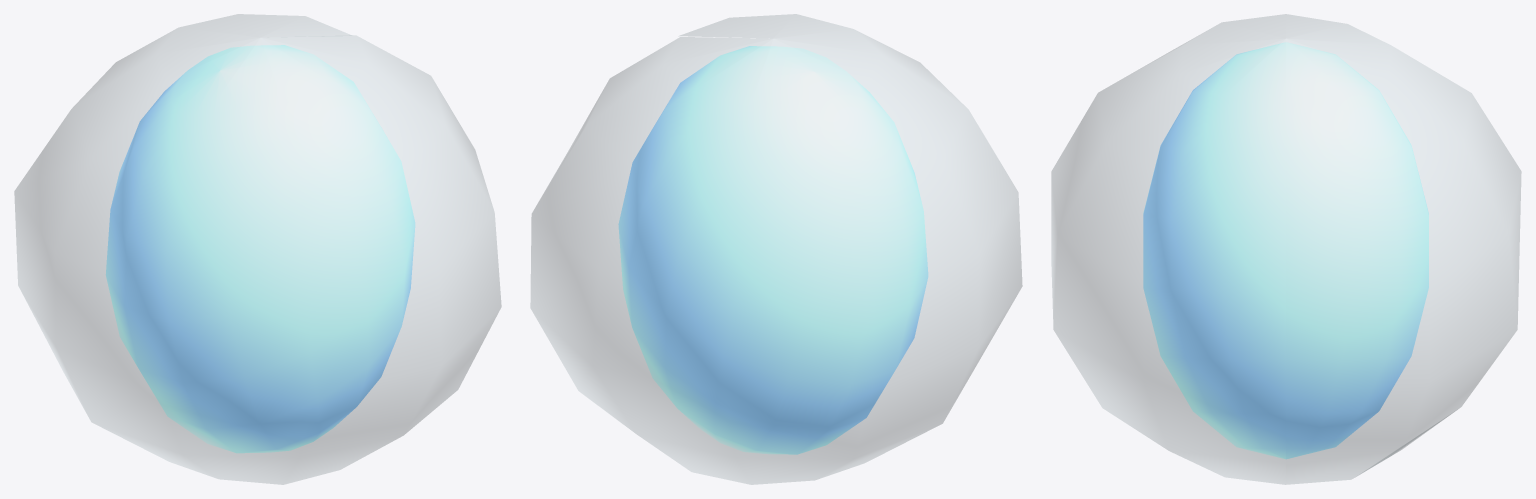
The model's file is fruit-mango-frozen.gltf.
3 renders of one model, left to right at view 1: azimuth 30°, elevation 25°; view 2: azimuth 150°, elevation 25°; view 3: azimuth 270°, elevation 25°, orthographic.
Size of the model in its own units: 0.589 by 0.5664 by 0.5692.
